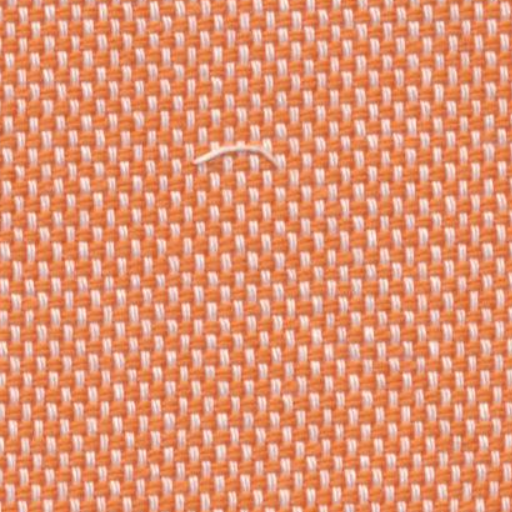DuanSha: (170, 126, 288, 194)
